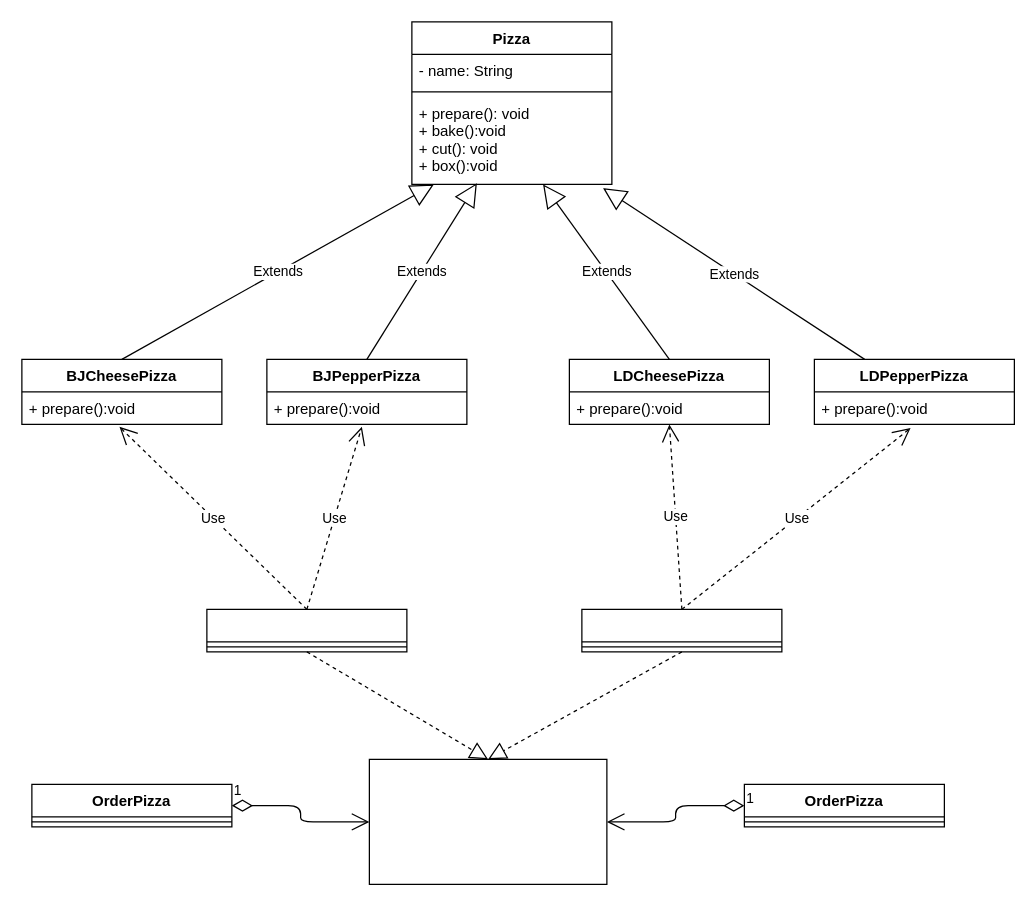
Image size: 1036x906. Some labels were removed from this diagram. The shapes that lost their labels are listed below. From the top down, each one's centre as x and y in pixels, then its label:
At point (306, 630): "BJFactory".
At point (681, 630): "LDFactory".
At point (487, 821): "<<Interface>> AbsFactory + createPizza():Pizza".
